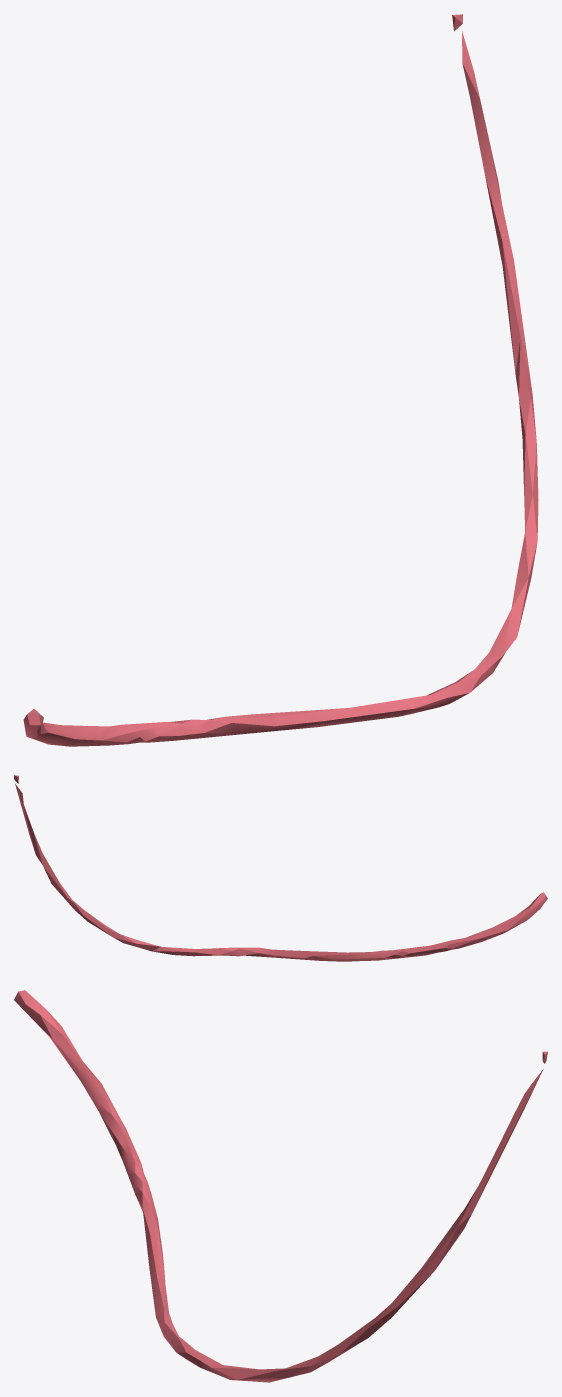
The model's file is fma50520_fj1701m.glb.
3 renders of one model, top to bottom at view 1: azimuth 30°, elevation 25°; view 2: azimuth 150°, elevation 25°; view 3: azimuth 270°, elevation 25°, orthographic. The views are drawn at different scales.
Visible parts, largest first — view 1: FMA50520_FJ1701M; view 2: FMA50520_FJ1701M; view 3: FMA50520_FJ1701M.
Part boxes in pixels (bbox=[...]): FMA50520_FJ1701M: bbox=[23, 14, 538, 746]; FMA50520_FJ1701M: bbox=[14, 775, 547, 961]; FMA50520_FJ1701M: bbox=[14, 990, 547, 1382].
Bounding box in the file's own units: 0.0197 × 0.0117 × 0.0146.
